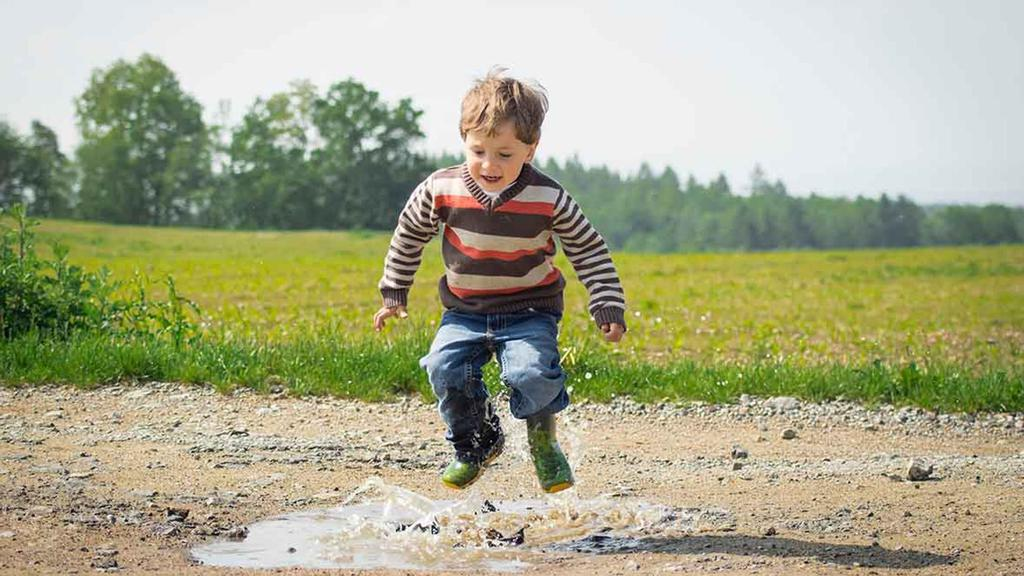child: (354, 69, 643, 503)
